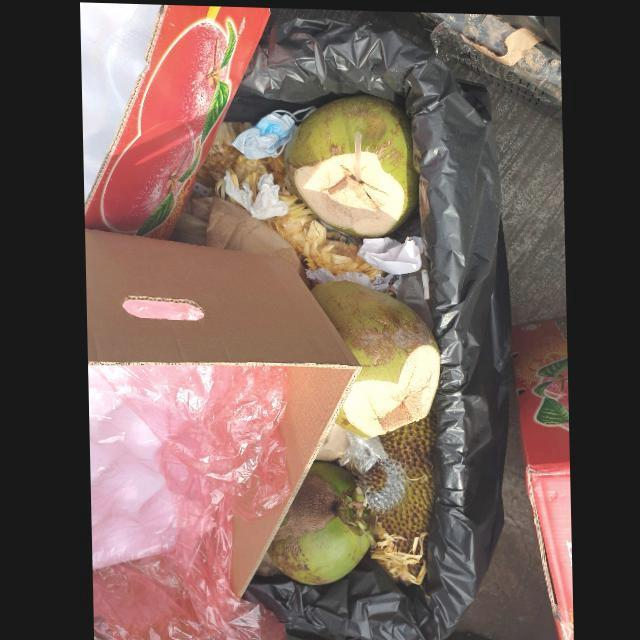cardboard: (84, 226, 360, 591), (84, 4, 269, 237)
paper: (356, 233, 423, 272)
